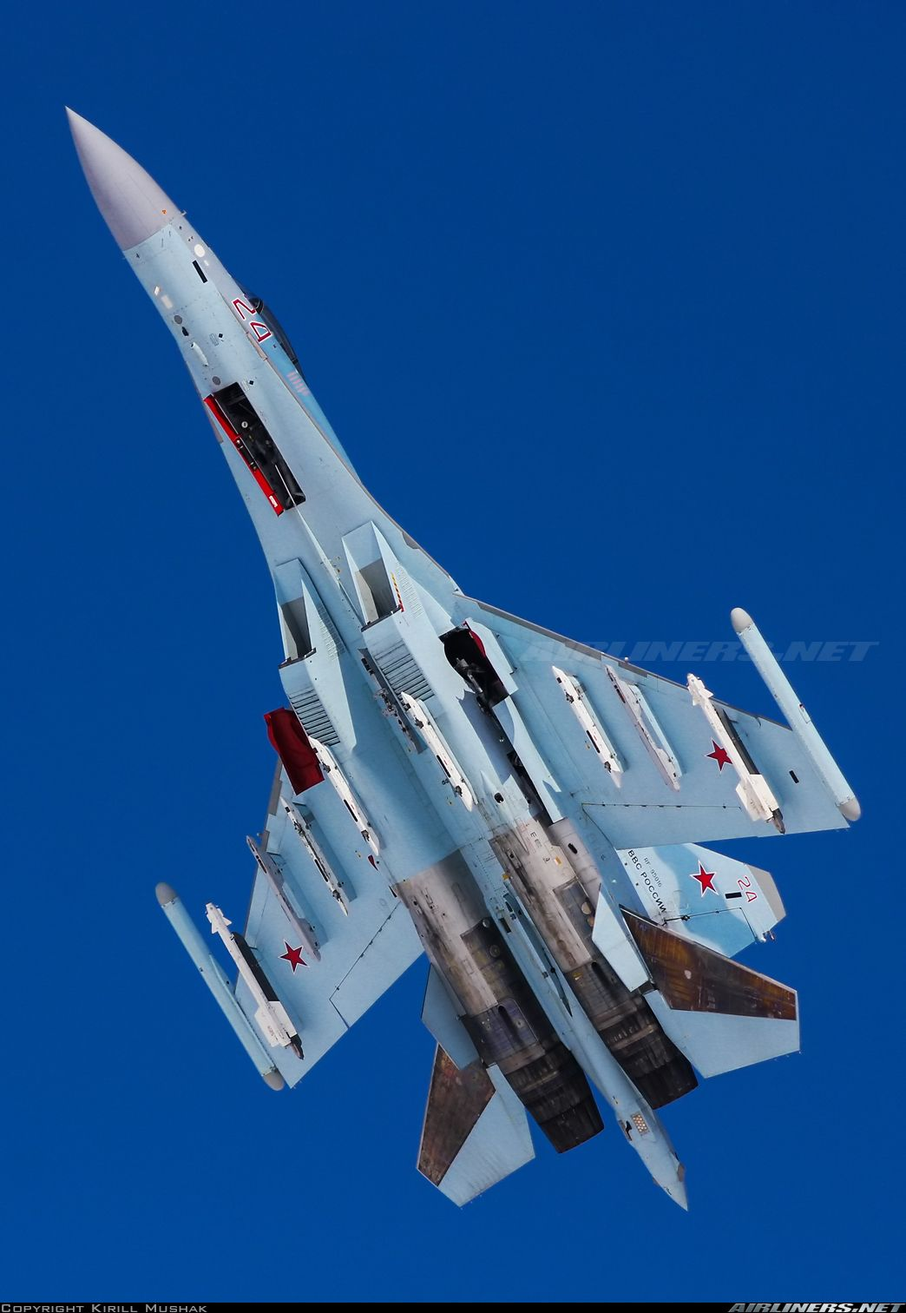Su35: (55, 88, 871, 1226)
